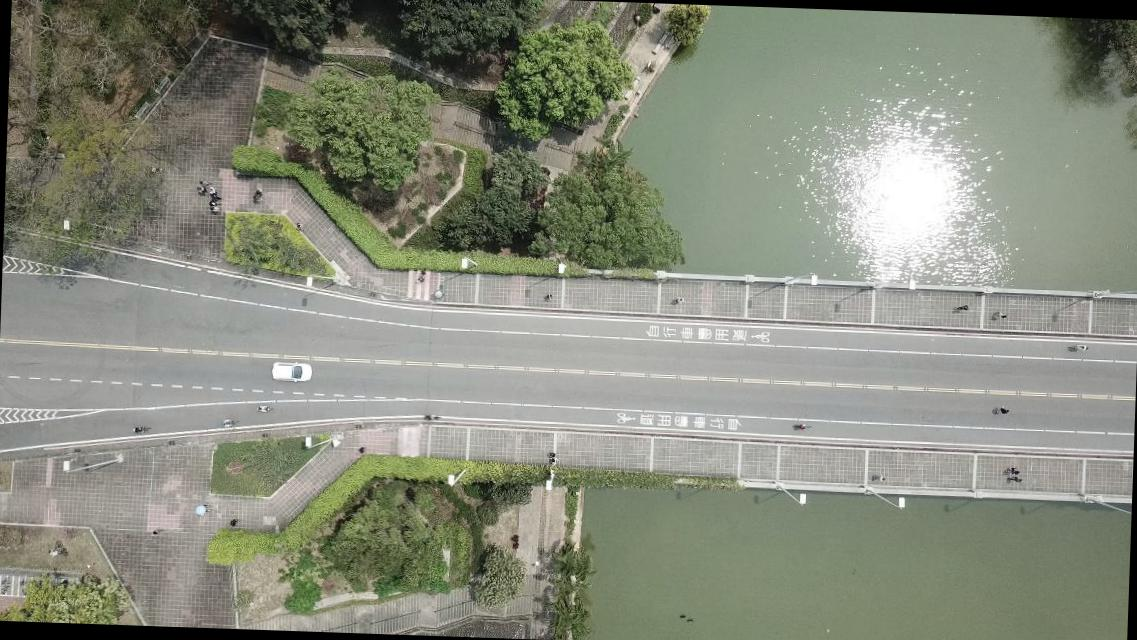vehicle: (270, 360, 312, 384)
